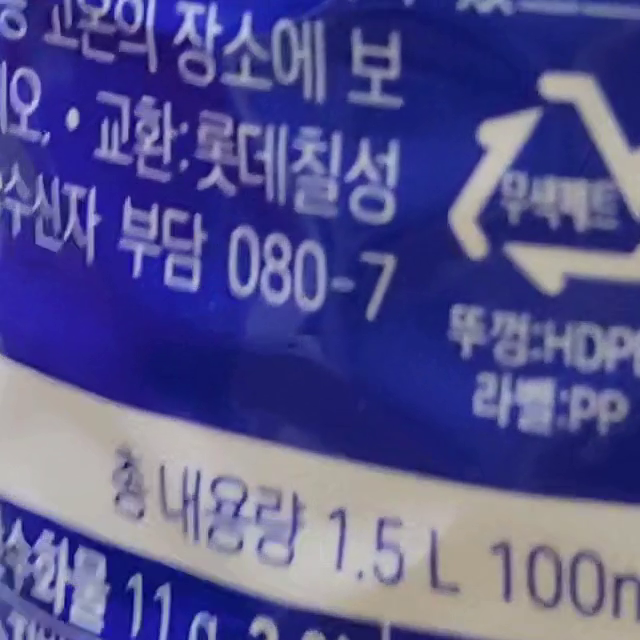ColorlessPet: (446, 72, 640, 292)
